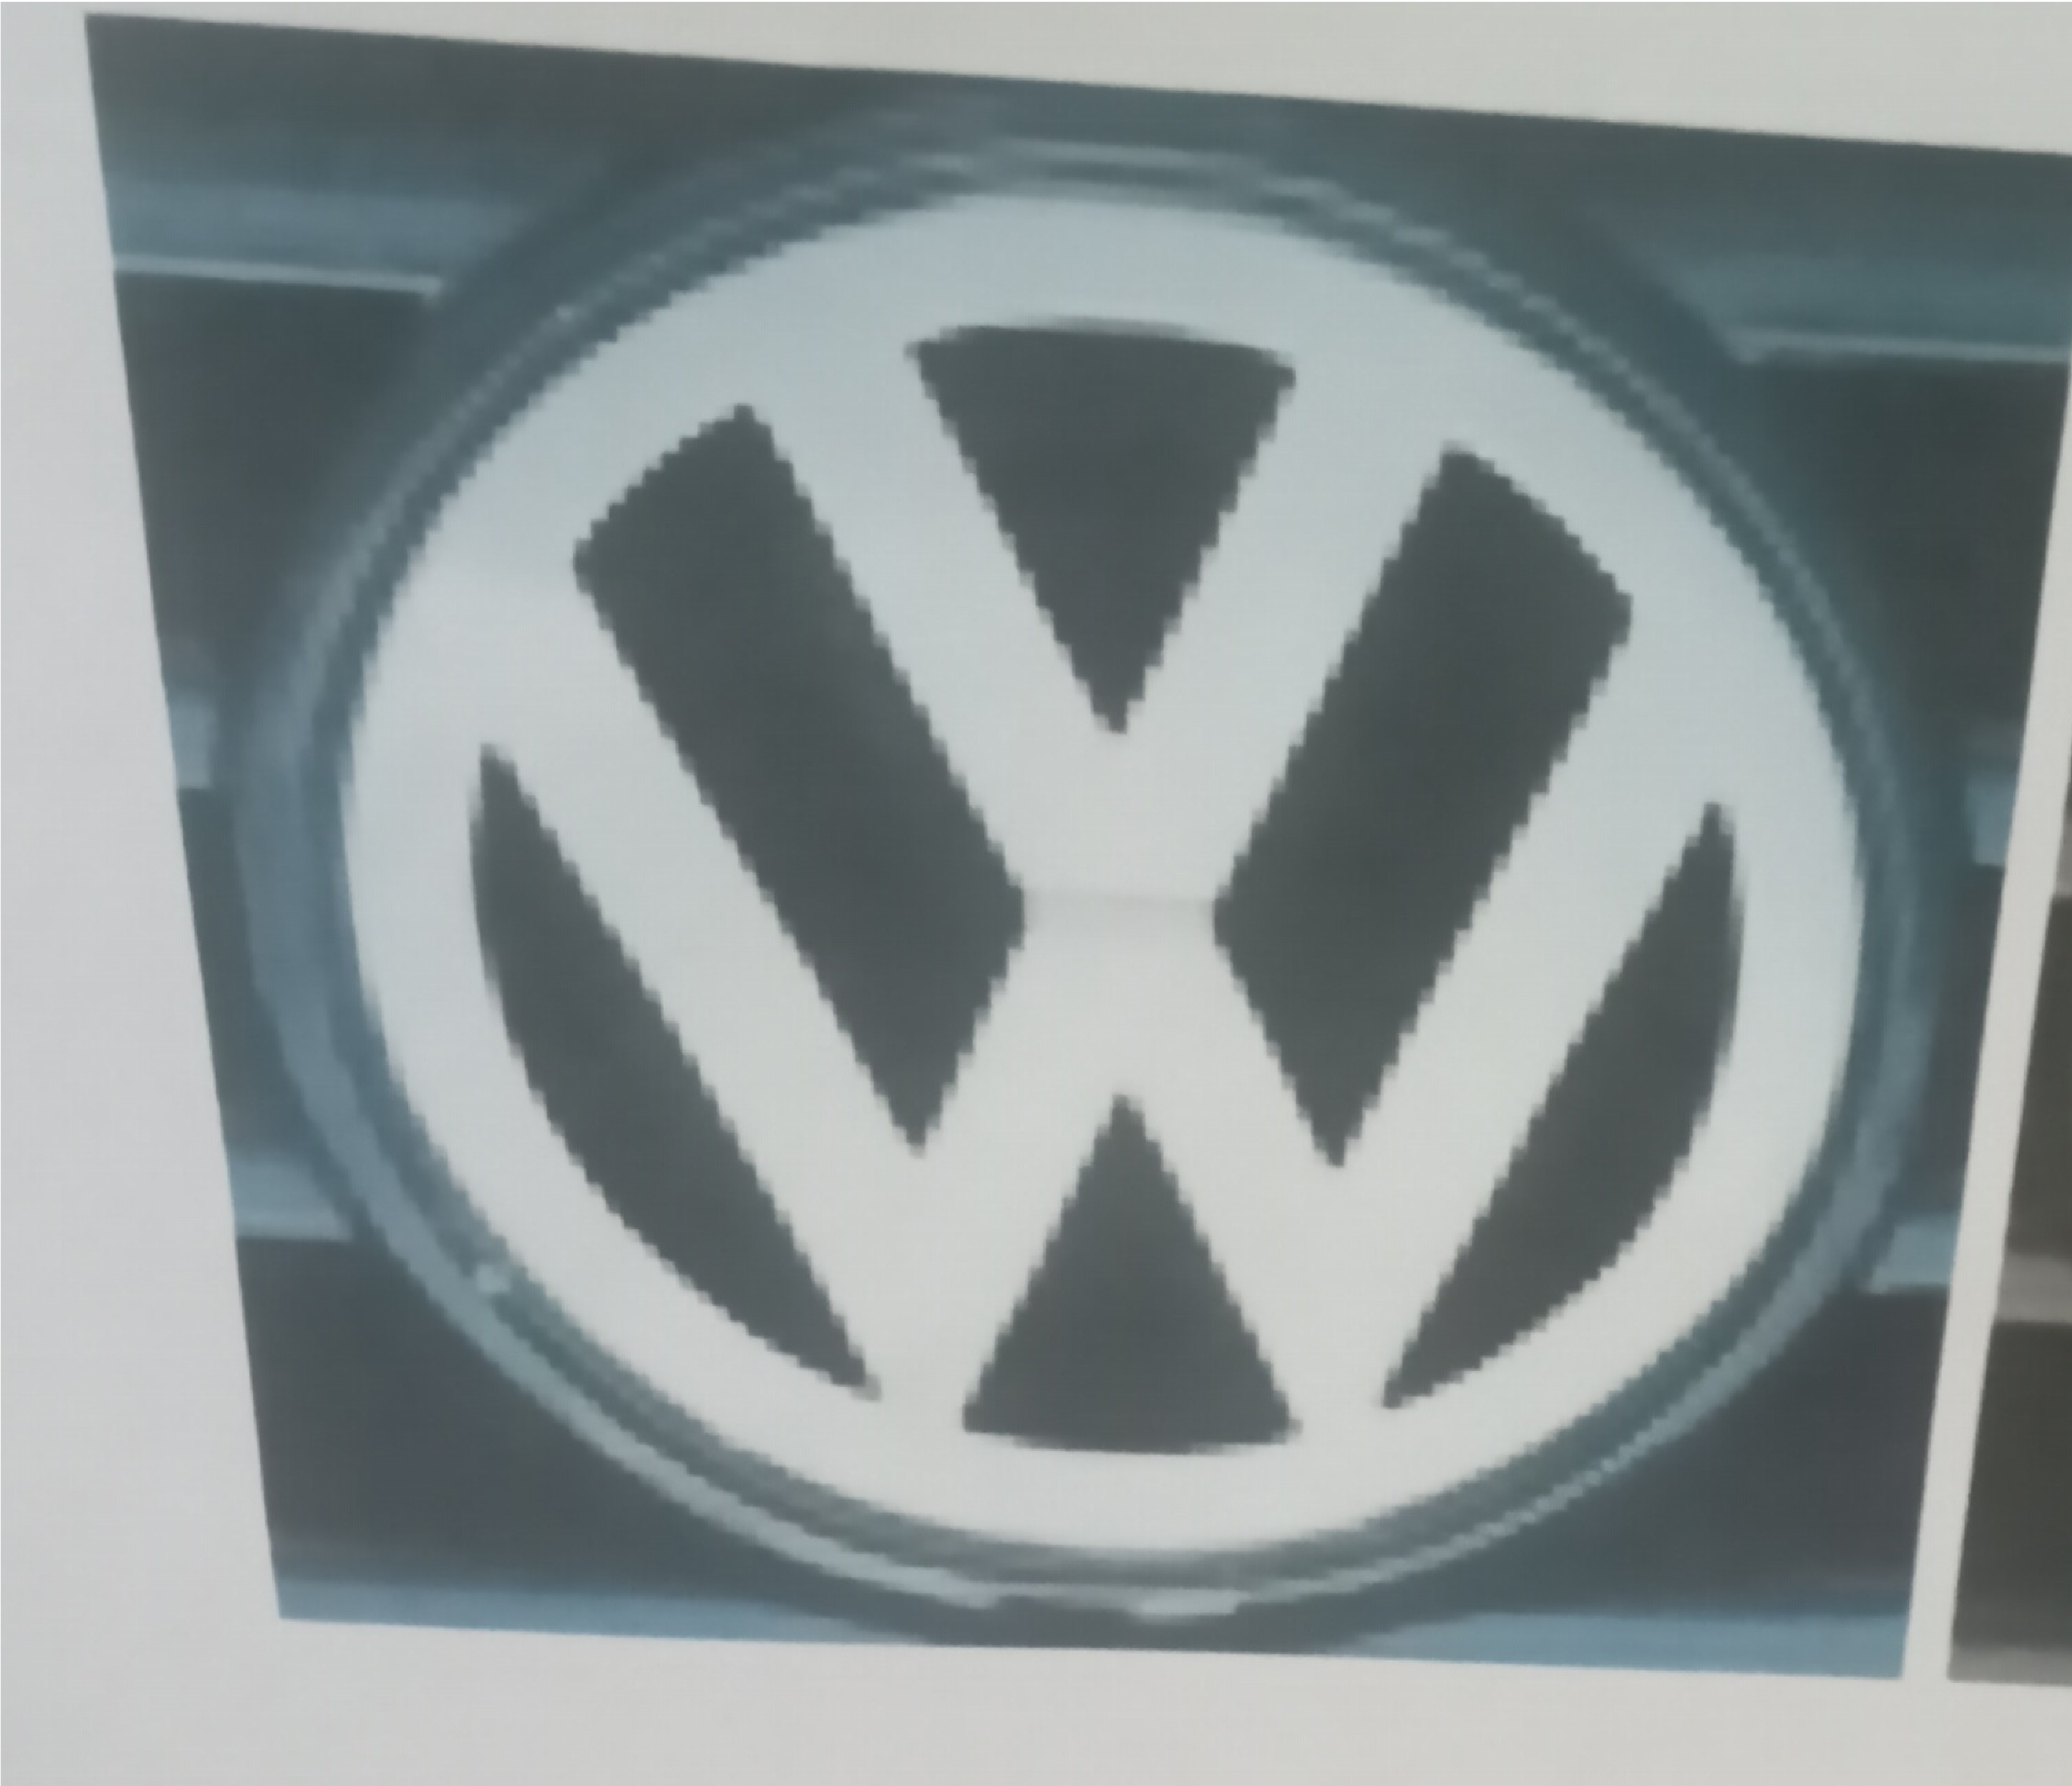Volkswagen: (132, 58, 1970, 1672)
